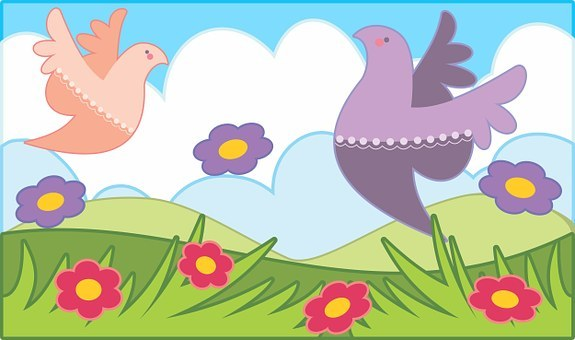bird: (329, 8, 529, 244), (19, 6, 171, 154)
